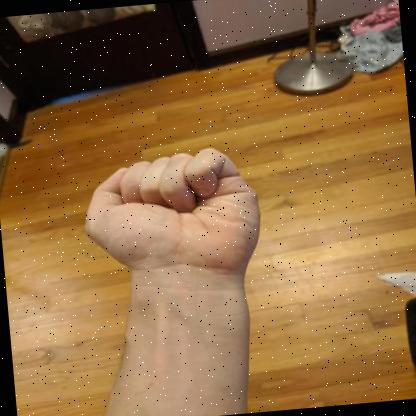A: (85, 148, 261, 288)
